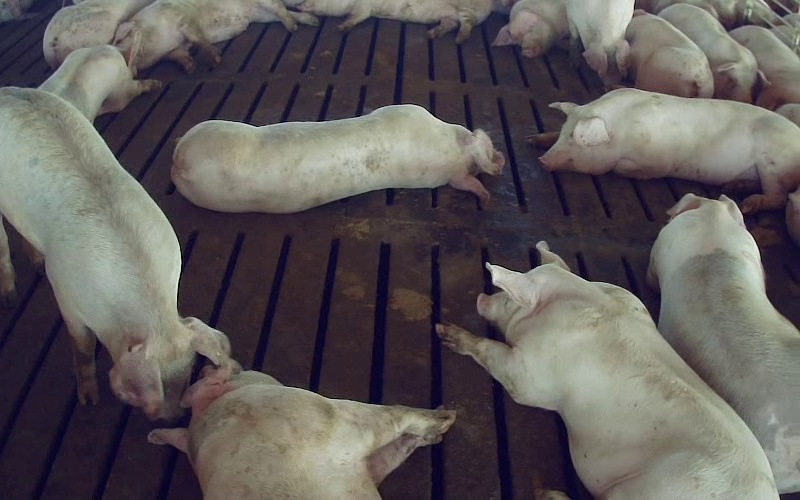pig: (437, 242, 777, 499), (648, 194, 799, 491), (148, 364, 454, 499), (171, 105, 504, 212), (528, 89, 799, 213), (113, 0, 317, 71), (658, 3, 769, 102), (38, 45, 160, 122), (625, 10, 713, 97), (730, 25, 799, 109), (566, 0, 633, 86), (492, 0, 568, 57)
